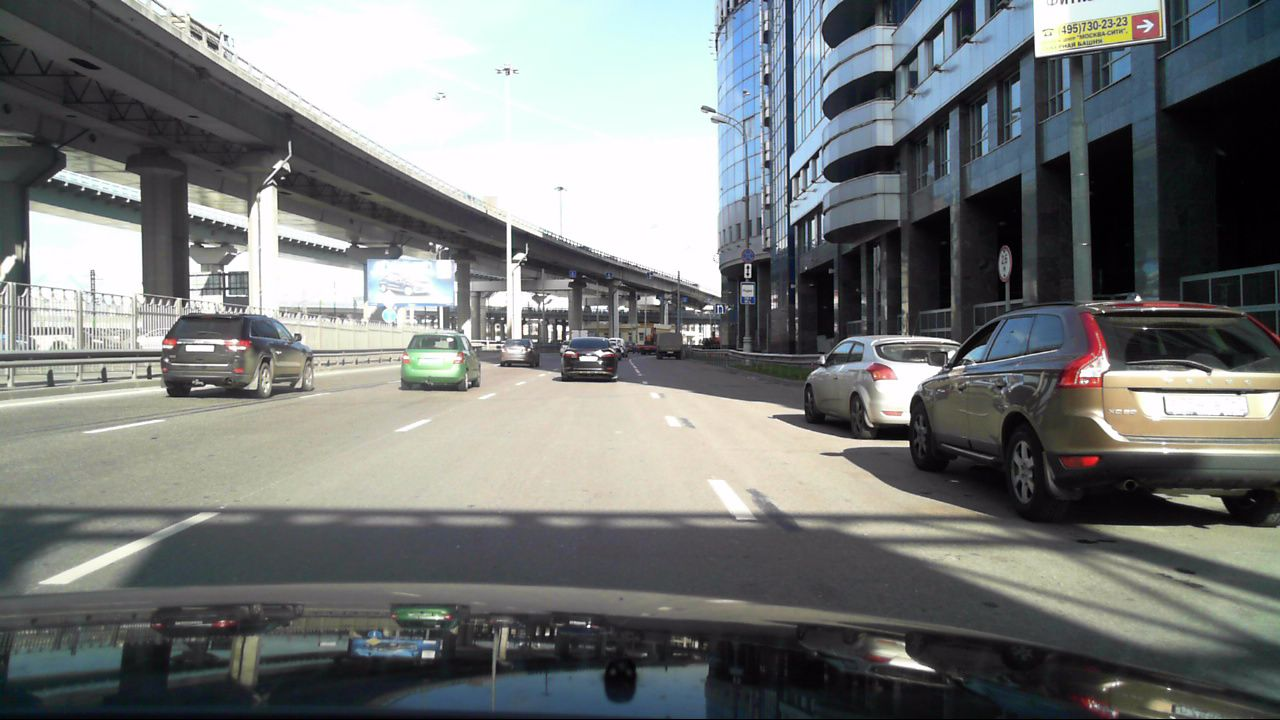No Parking: (739, 246, 756, 263)
